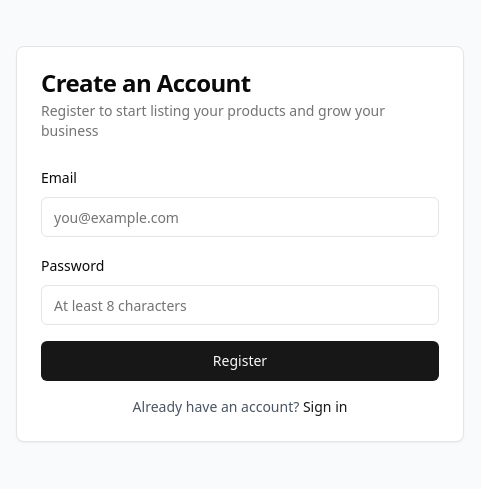
it: RegisterPage › should display error message on registration failure
Type "test@example.com" into the field labelled "Email".
click(240, 217); type("test@example.com")  # box [41,197,439,237]
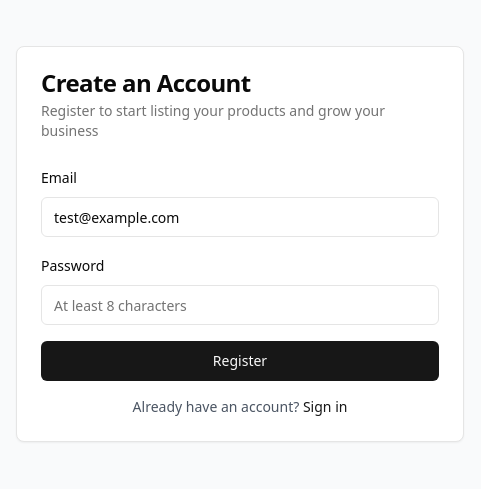
Type "password123" into the password field labelled "Password".
click(240, 305); type("password123")  # box [41,285,439,325]
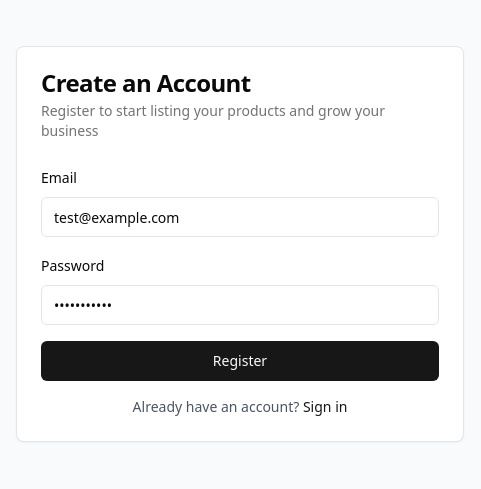
Click the button "Register".
click(240, 361)  # box [41,341,439,381]
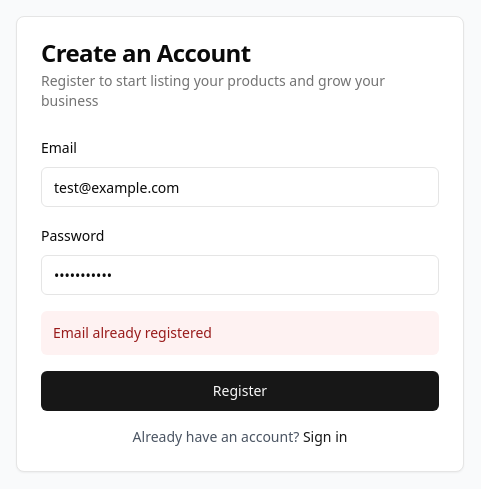
Expected: the text "Email already registered" is shown, [41,311,439,355]
